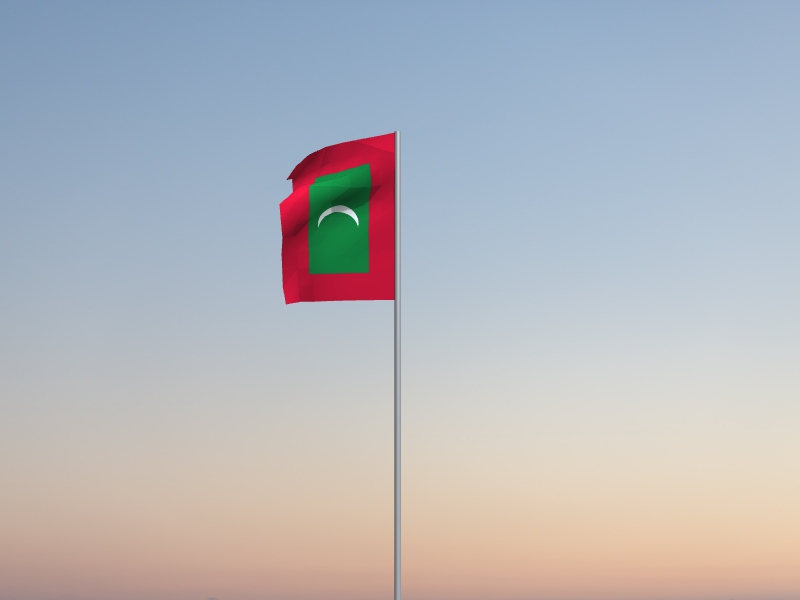mv: (280, 134, 395, 306)
